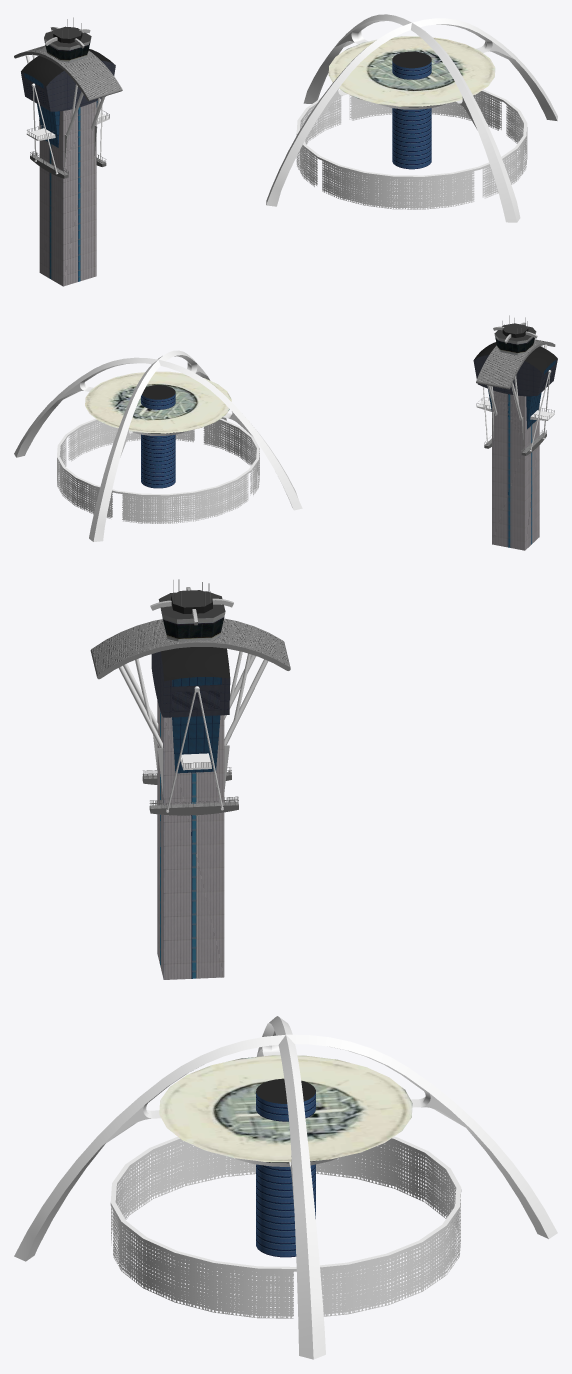
File: LAX_TOWER_GE.dae
3 renders of one model, top to bottom at view 1: azimuth 30°, elevation 25°; view 2: azimuth 150°, elevation 25°; view 3: azimuth 270°, elevation 25°, orthographic. The views are drawn at different scales.
Parts seen in each view (by area): view 1: group_3 (×13), group_0 (×3), arch_2 (×4), group_2 (×2), group_1, green_glass; view 2: group_3 (×13), group_0 (×3), arch_2 (×4), group_2, group_1, green_glass; view 3: group_3 (×11), group_0 (×3), arch_2 (×3), group_2 (×2), green_glass, group_1.
Boxes of the visible parts, left/top/right/bottom form: group_3 (×13): left=296, top=36, right=527, bottom=209; group_0 (×3): left=21, top=56, right=115, bottom=286; arch_2 (×4): left=266, top=14, right=557, bottom=222; group_2 (×2): left=14, top=45, right=122, bottom=101; group_1: left=44, top=38, right=91, bottom=62; green_glass: left=37, top=104, right=59, bottom=147; group_3 (×13): left=57, top=371, right=259, bottom=523; group_0 (×3): left=473, top=346, right=557, bottom=550; arch_2 (×4): left=14, top=350, right=302, bottom=541; group_2: left=476, top=339, right=547, bottom=387; group_1: left=494, top=332, right=536, bottom=355; green_glass: left=526, top=392, right=541, bottom=428; group_3 (×11): left=110, top=1055, right=461, bottom=1318; group_0 (×3): left=151, top=647, right=230, bottom=979; arch_2 (×3): left=14, top=1034, right=557, bottom=1359; group_2 (×2): left=90, top=618, right=290, bottom=679; green_glass: left=172, top=715, right=220, bottom=773; group_1: left=160, top=608, right=225, bottom=641.
Bounding box in the file's own units: 7405 × 4034 × 3136.
